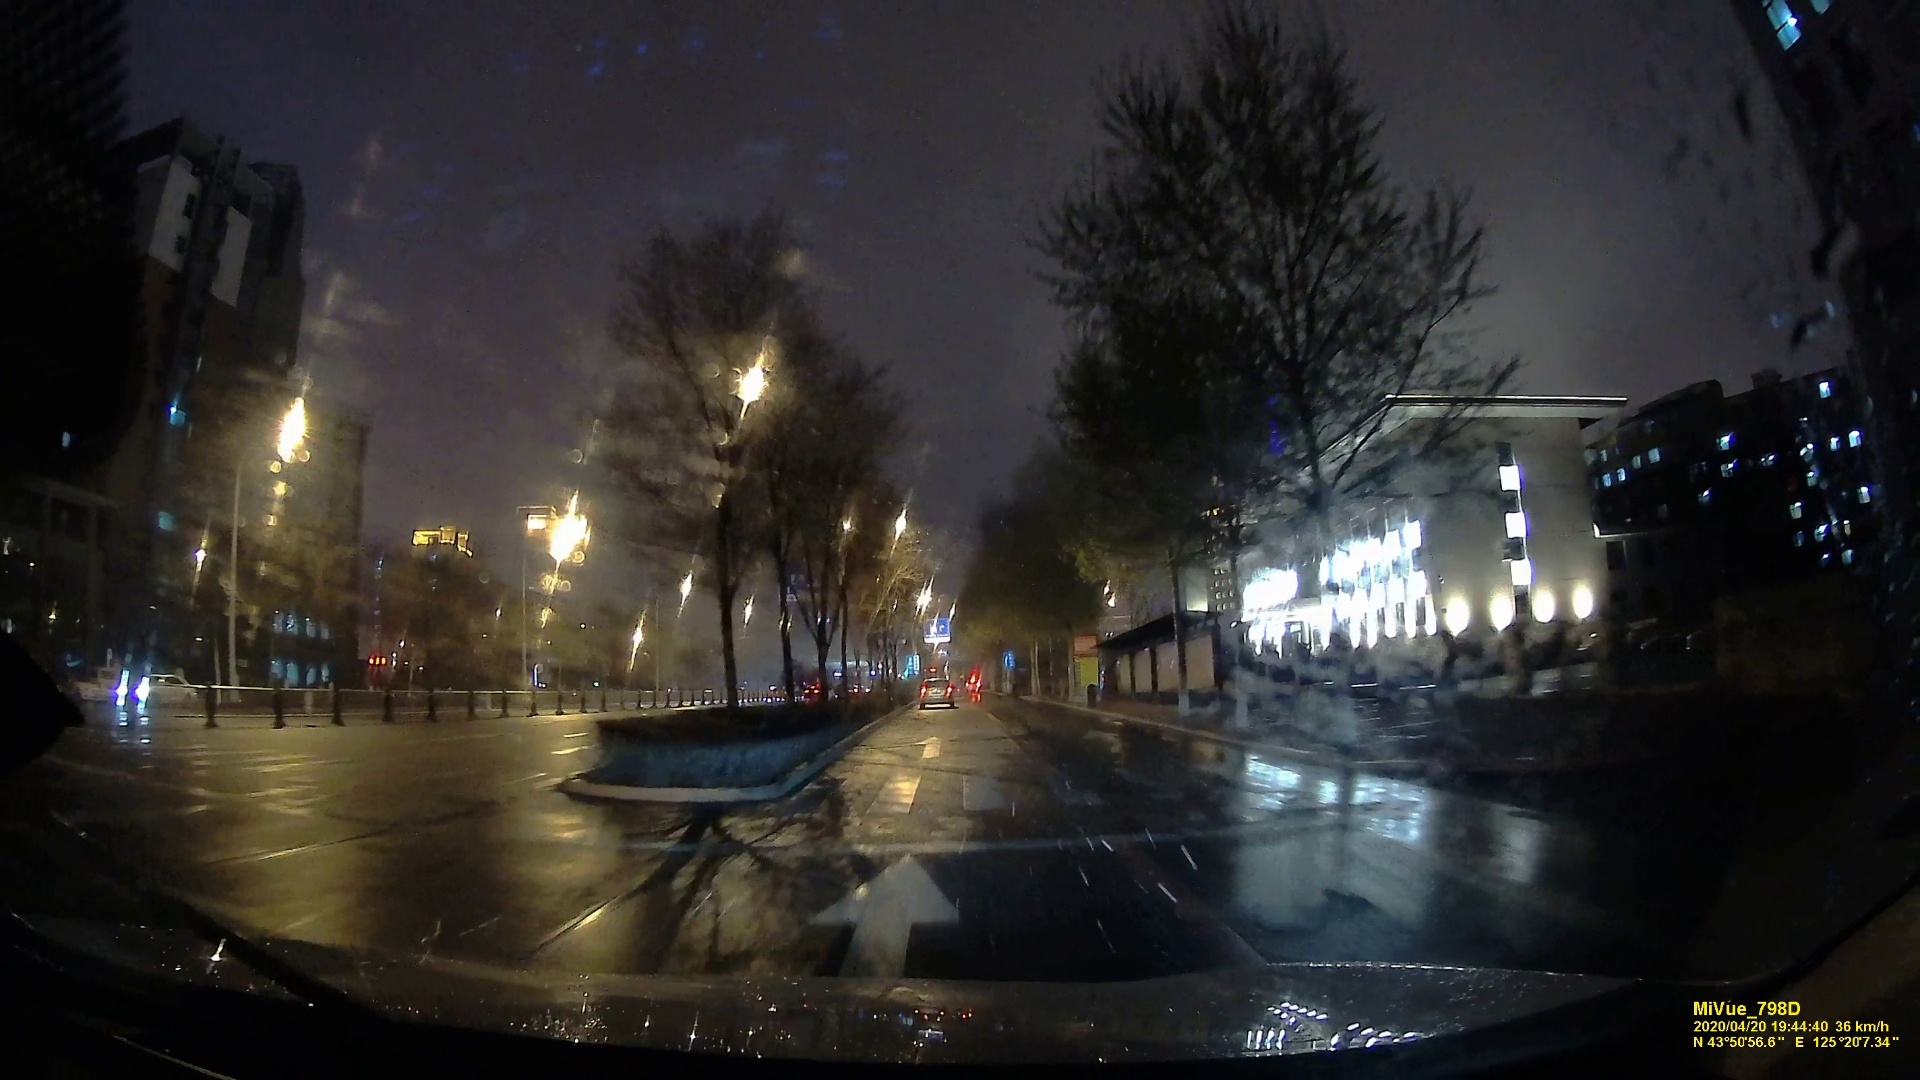vehicle: (113, 674, 196, 711), (918, 679, 957, 709)
